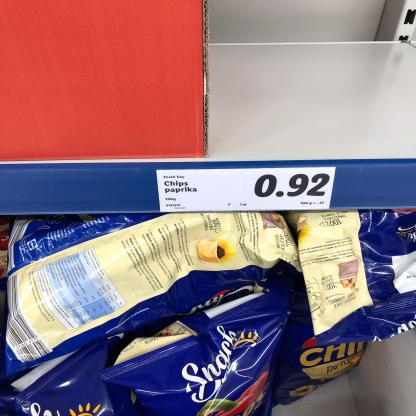prtg: (157, 168, 337, 212)
